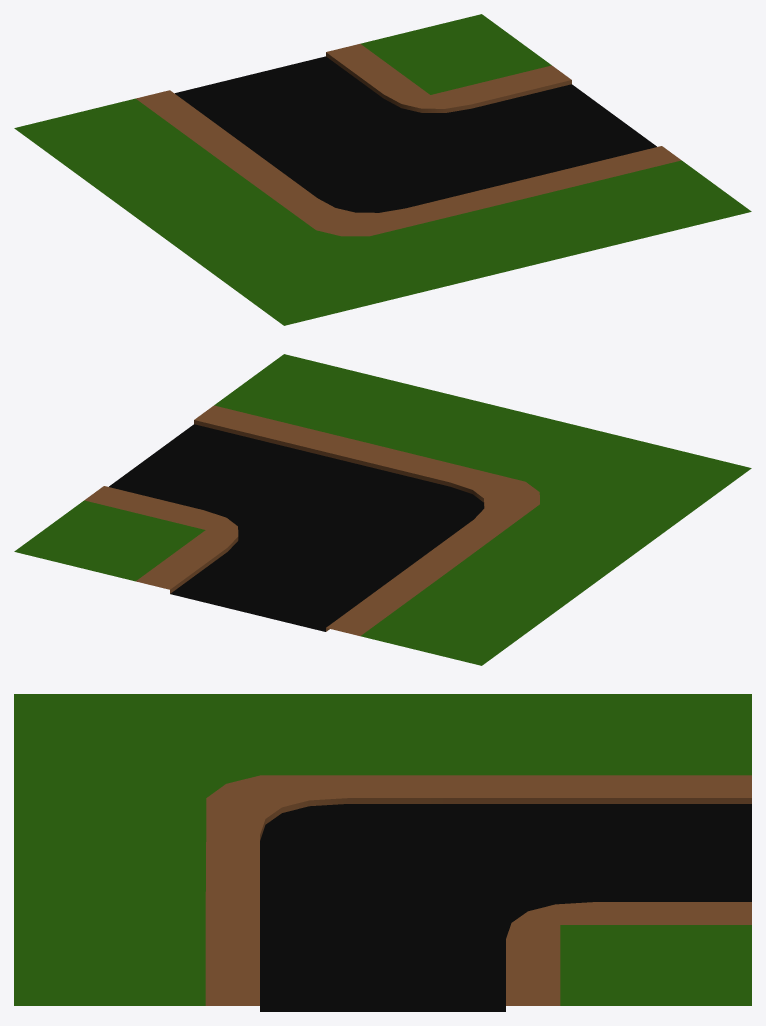
The model's file is Strada_Curva.FBX.
3 views of the same model, one above another, from view 1: azimuth 30°, elevation 25°; view 2: azimuth 150°, elevation 25°; view 3: azimuth 270°, elevation 25° (orthographic). The views are drawn at different scales.
Visible parts, largest first — view 1: Plane005; view 2: Plane005; view 3: Plane005.
Part boxes in pixels (box(x1,y1,x2,y2)): Plane005: box(14, 14, 751, 325); Plane005: box(14, 354, 751, 665); Plane005: box(14, 694, 751, 1011).
Size of the model in its own units: 2100 by 18.16 by 2100.
